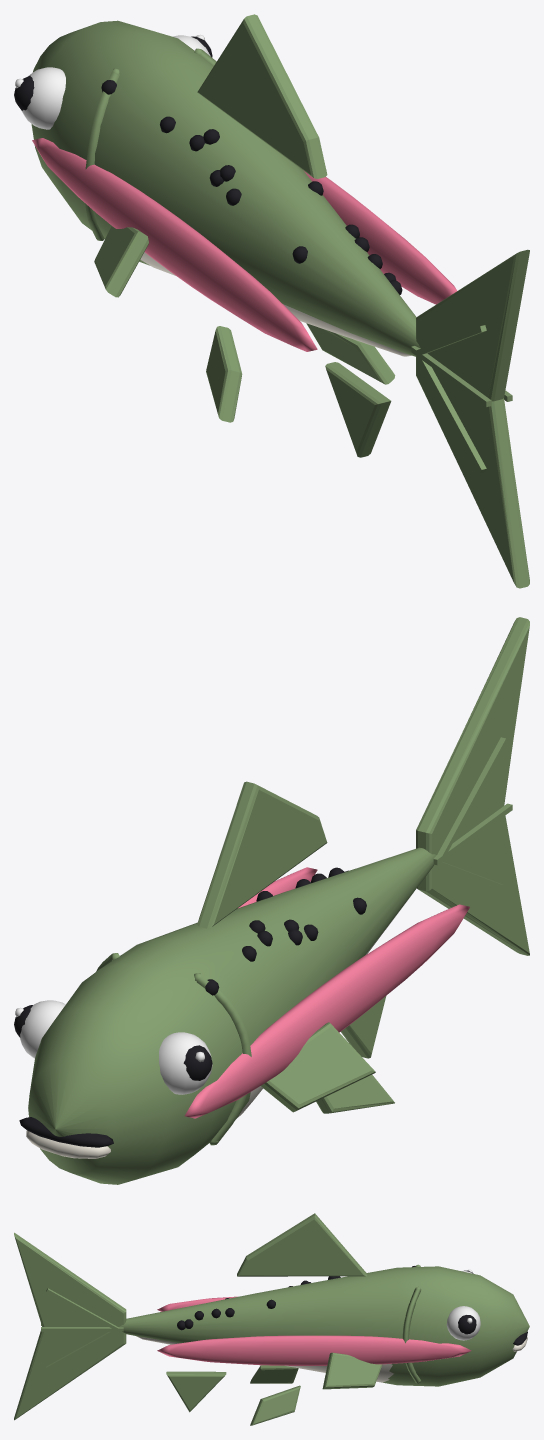
File: FISH_TROUT.glb
3 renders of one model, top to bottom at view 1: azimuth 30°, elevation 25°; view 2: azimuth 150°, elevation 25°; view 3: azimuth 270°, elevation 25°, orthographic. The views are drawn at different scales.
Parts seen in each view (by area): view 1: TroutOlive, RainbowPink, Eye, EyeWhite, Belly; view 2: TroutOlive, RainbowPink, Eye, EyeWhite, Belly; view 3: TroutOlive, RainbowPink, Eye, EyeWhite, Belly.
Part boxes in pixels (bbox=[...]): TroutOlive: bbox=[31, 14, 529, 588]; RainbowPink: bbox=[32, 138, 457, 351]; Eye: bbox=[14, 36, 402, 294]; EyeWhite: bbox=[15, 35, 210, 129]; Belly: bbox=[140, 252, 411, 356]; TroutOlive: bbox=[28, 617, 529, 1184]; RainbowPink: bbox=[184, 867, 469, 1118]; Eye: bbox=[14, 867, 366, 1147]; EyeWhite: bbox=[15, 1000, 212, 1094]; Belly: bbox=[26, 899, 408, 1158]; TroutOlive: bbox=[14, 1213, 529, 1425]; RainbowPink: bbox=[157, 1296, 471, 1365]; Eye: bbox=[177, 1266, 527, 1345]; EyeWhite: bbox=[446, 1269, 480, 1340]; Belly: bbox=[136, 1336, 527, 1382].
Size of the model in its own units: 0.7312 by 0.9648 by 2.2.
